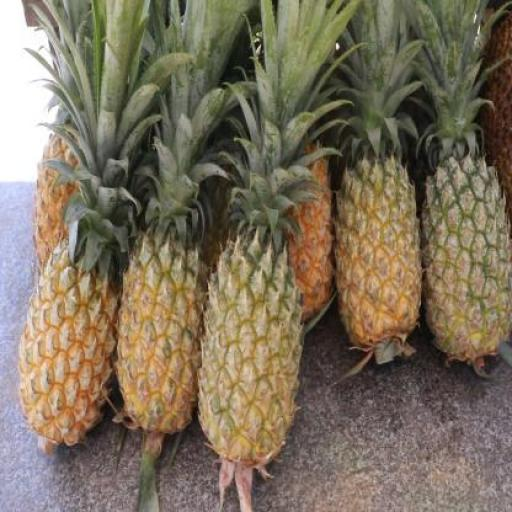------------------------------: (200, 238, 300, 455)
Pineapple - v8 v1: (16, 250, 118, 456), (118, 232, 211, 430), (336, 160, 422, 356), (32, 131, 98, 285)
